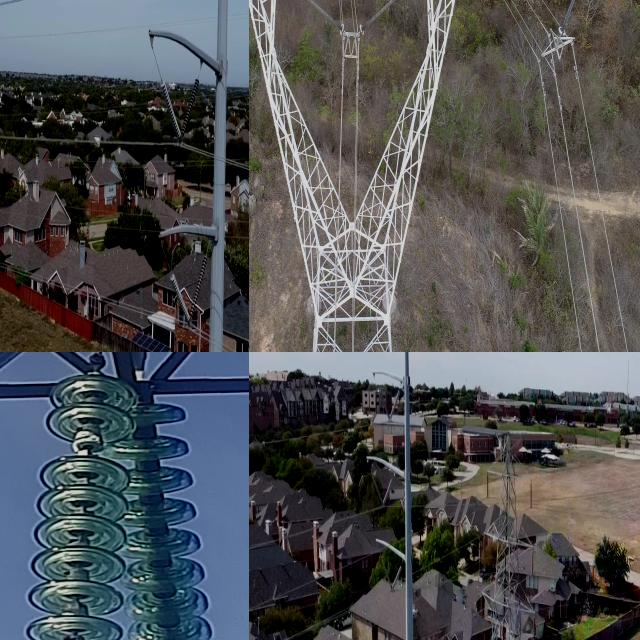杆塔: (249, 0, 472, 352), (480, 434, 537, 640)
正常电缆: (572, 68, 637, 352), (531, 78, 589, 352)
正常绝缘子: (26, 372, 142, 640), (113, 390, 227, 640), (174, 69, 203, 158), (156, 68, 187, 147), (358, 0, 402, 38), (300, 0, 344, 36), (554, 0, 582, 33), (385, 384, 403, 428), (374, 384, 392, 425), (379, 474, 396, 513), (379, 555, 395, 596), (370, 471, 386, 511), (388, 561, 405, 595), (527, 472, 533, 516), (484, 470, 491, 502), (530, 608, 537, 640), (530, 542, 535, 582), (482, 534, 487, 562)
绝缘子破损: (69, 433, 106, 454)
